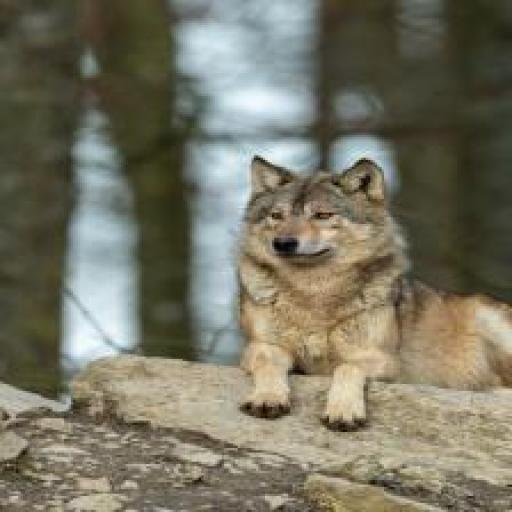wolf: (219, 146, 512, 506)
